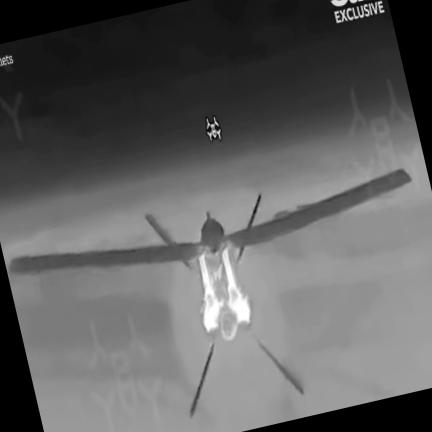Shahed: (9, 169, 412, 416)
